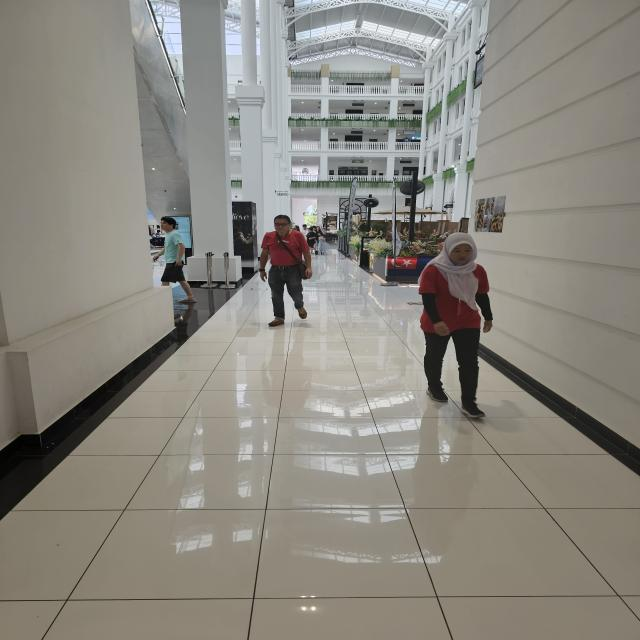footpath: (1, 436, 623, 638), (138, 323, 402, 439)
person: (418, 232, 493, 418), (258, 215, 312, 326), (151, 216, 197, 304)
